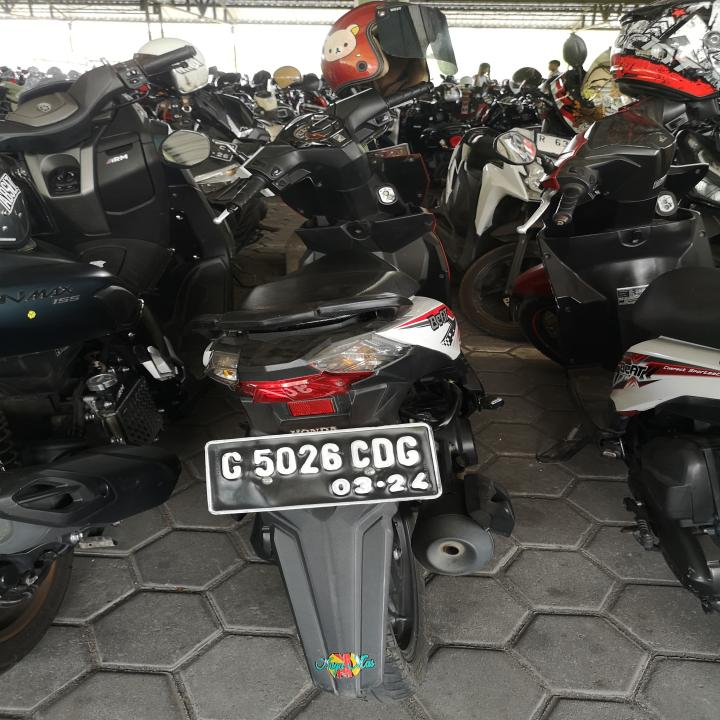plate: (203, 420, 450, 516)
